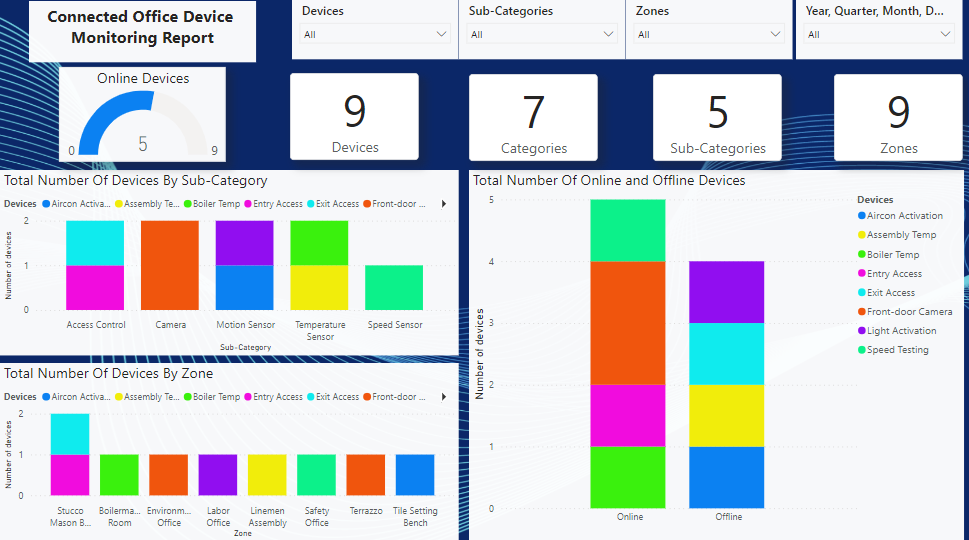

This screenshot's page, from the dashboard's own definition file:
{"tool":"powerbi","page":{"name":"High-Level  Metrics","canvas":[1280,720],"ordinal":0},"visuals":[{"type":"card","fields":{"Values":["CountNonNull(devices.Devices)"]},"box":[383,102.2,169.9,115.2],"z":0,"group":"g1"},{"type":"slicer","fields":{"Values":["subCategories.SubCategoryName"]},"box":[606.2,2.9,220.3,80.6],"z":0},{"type":"card","fields":{"Values":["Count(categories.CategoryName)"]},"box":[619.1,103.4,169.9,115.2],"z":1000,"group":"g1"},{"type":"slicer","title":"Date Installed","fields":{"Values":["devices.Date Installed.Variation.Date Hierarchy.Year","devices.Date Installed.Variation.Date Hierarchy.Quarter","devices.Date Installed.Variation.Date Hierarchy.Month","devices.Date Installed.Variation.Date Hierarchy.Day"]},"box":[1051.2,2.9,220.3,80.6],"z":1000},{"type":"card","fields":{"Values":["Count(subCategories.ID)"]},"box":[862.4,103.4,169.9,115.2],"z":2000,"group":"g1"},{"type":"slicer","fields":{"Values":["zones.ZoneName"]},"box":[826.6,2.9,220.3,80.6],"z":2000},{"type":"card","fields":{"Values":["Count(zones.ID)"]},"box":[1101.5,103.4,169.9,115.2],"z":3000,"group":"g1"},{"type":"textbox","box":[38.9,7.2,299.5,80.6],"z":3000},{"type":"slicer","fields":{"Values":["devices.Devices"]},"box":[385.9,2.9,220.3,80.6],"z":4000},{"type":"columnChart","title":"Total Number Of Devices By Sub-Category","fields":{"Series":["devices.Devices"],"Y":["CountNonNull(devices.ID)"],"Category":["subCategories.SubCategoryName"]},"box":[0,230.4,606.2,244.8],"z":5000},{"type":"columnChart","title":"Total Number Of Devices By Zone","fields":{"Series":["devices.Devices"],"Category":["devices.Zones"],"Y":["CountNonNull(devices.ID)"]},"box":[0,485.3,606.2,234.7],"z":6000},{"type":"gauge","title":"Online Devices","fields":{"Y":["Sum(devices.IconIsActive)"]},"box":[77.8,93.6,220.3,125.3],"z":7000},{"type":"columnChart","title":"Total Number Of Online and Offline Devices","fields":{"Series":["devices.Devices"],"Category":["devices.Online_Offline"],"Y":["CountNonNull(devices.ID)"]},"box":[619.2,230.4,653.8,489.6],"z":8000},{"type":"group","id":"g1","title":"Group 1","box":[383,102.2,888.5,116.6],"z":9000}]}

Visuals, with their boxes in screenshot pixels (x1, y1, x2, y2), scaled from the page's 1280x720 canvas onto the 969x540 screenshot:
card - CountNonNull(devices.Devices): [left=290, top=77, right=419, bottom=163]
slicer - subCategories.SubCategoryName: [left=459, top=2, right=626, bottom=63]
card - Count(categories.CategoryName): [left=469, top=78, right=597, bottom=164]
"Date Installed" slicer: [left=796, top=2, right=963, bottom=63]
card - Count(subCategories.ID): [left=653, top=78, right=781, bottom=164]
slicer - zones.ZoneName: [left=626, top=2, right=793, bottom=63]
card - Count(zones.ID): [left=834, top=78, right=962, bottom=164]
textbox: [left=29, top=5, right=256, bottom=66]
slicer - devices.Devices: [left=292, top=2, right=459, bottom=63]
"Total Number Of Devices By Sub-Category" columnChart: [left=0, top=173, right=459, bottom=356]
"Total Number Of Devices By Zone" columnChart: [left=0, top=364, right=459, bottom=539]
"Online Devices" gauge: [left=59, top=70, right=226, bottom=164]
"Total Number Of Online and Offline Devices" columnChart: [left=469, top=173, right=964, bottom=539]
"Group 1" group: [left=290, top=77, right=963, bottom=164]
